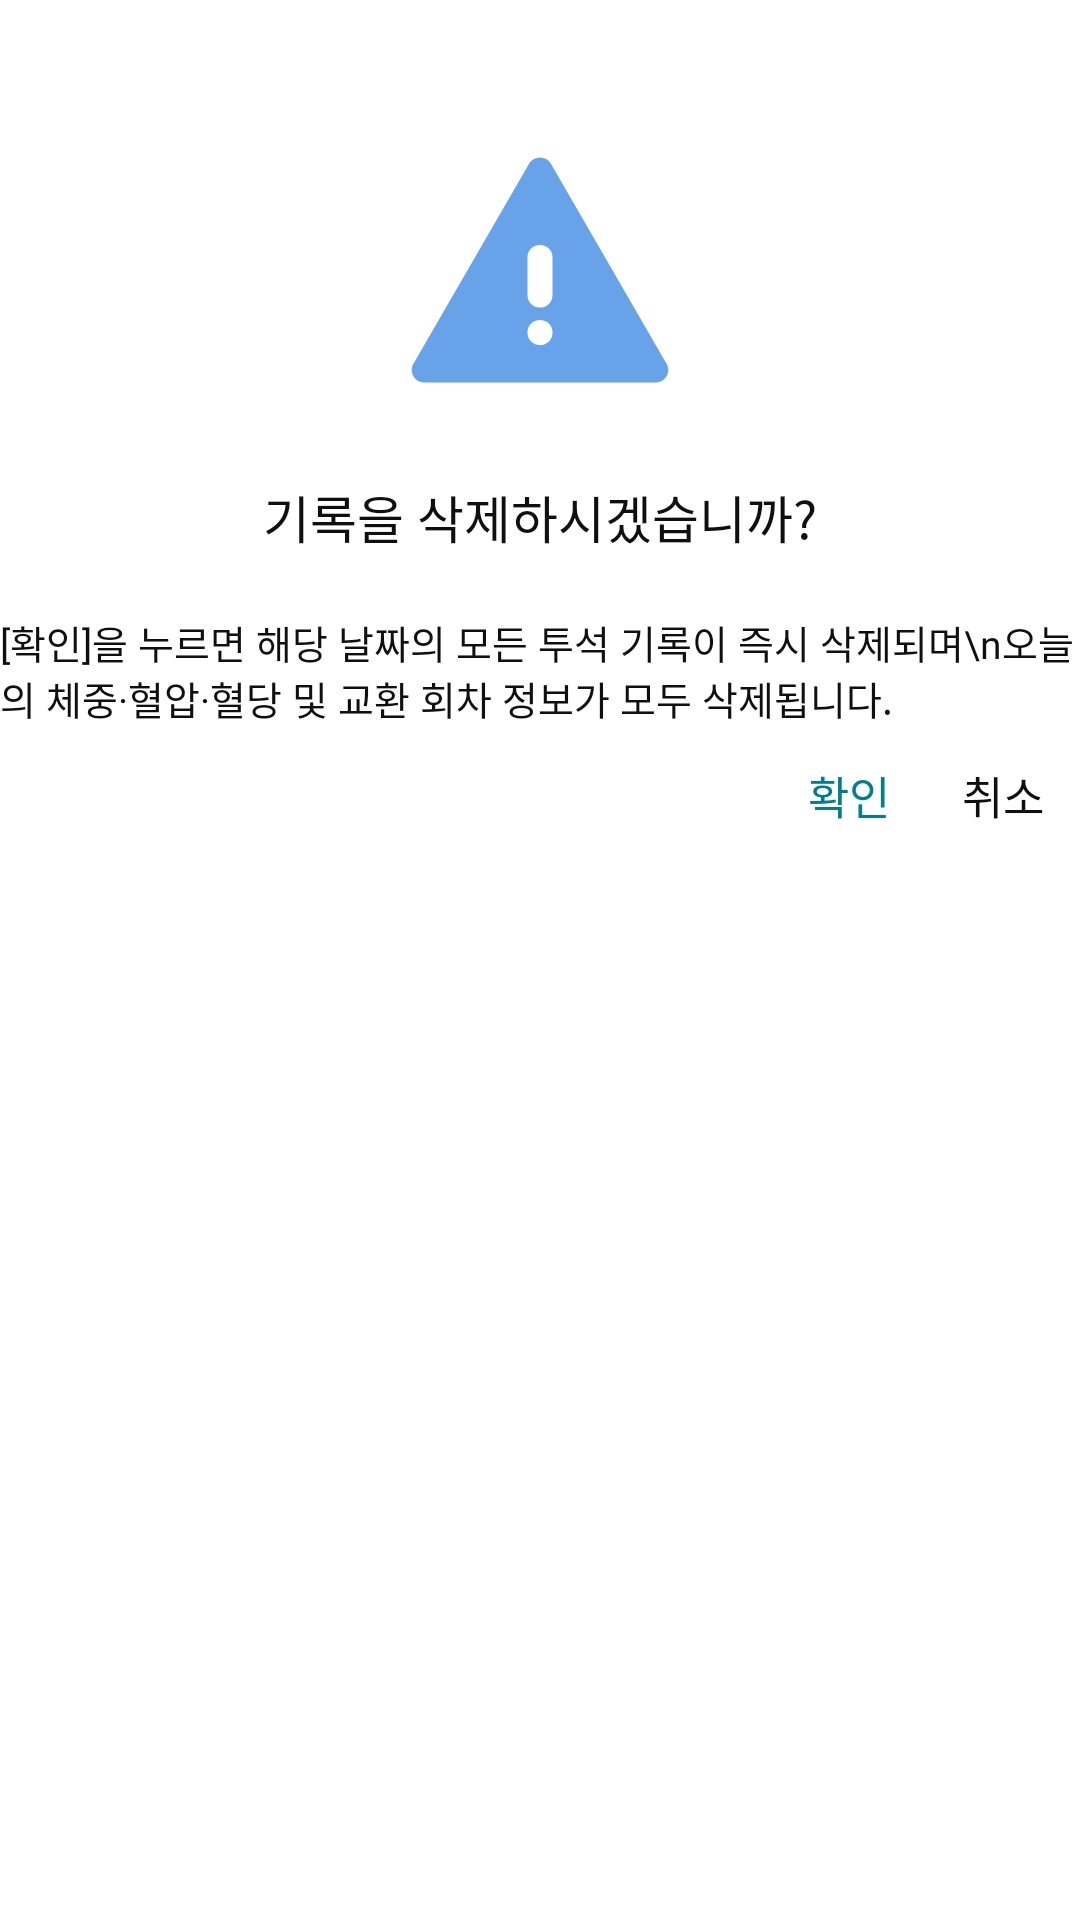

Where to tap for icons on this 1080×1920 app screen, as (x=x, y=y):
warning sv: (x=540, y=270)
